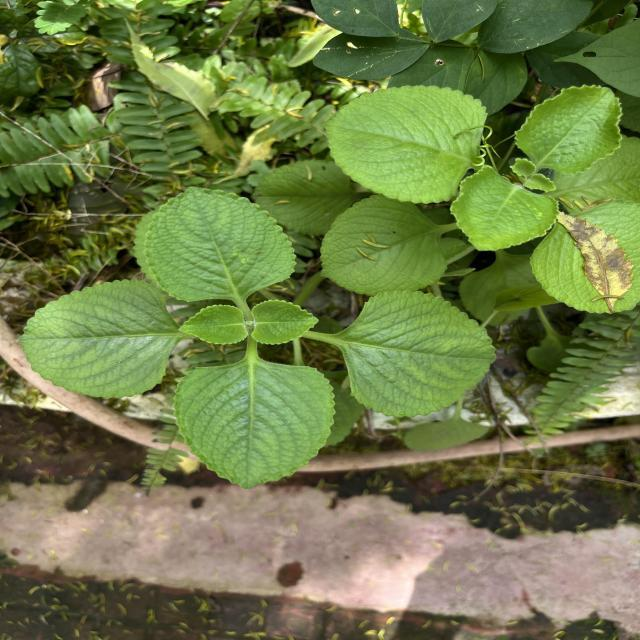Plectranthus barbatus: (172, 360, 336, 490), (337, 288, 499, 419), (18, 278, 182, 401), (322, 84, 488, 205), (143, 185, 298, 304), (318, 193, 449, 294), (513, 83, 625, 176), (450, 164, 560, 252), (251, 160, 356, 238), (251, 298, 320, 346), (178, 304, 250, 346)
